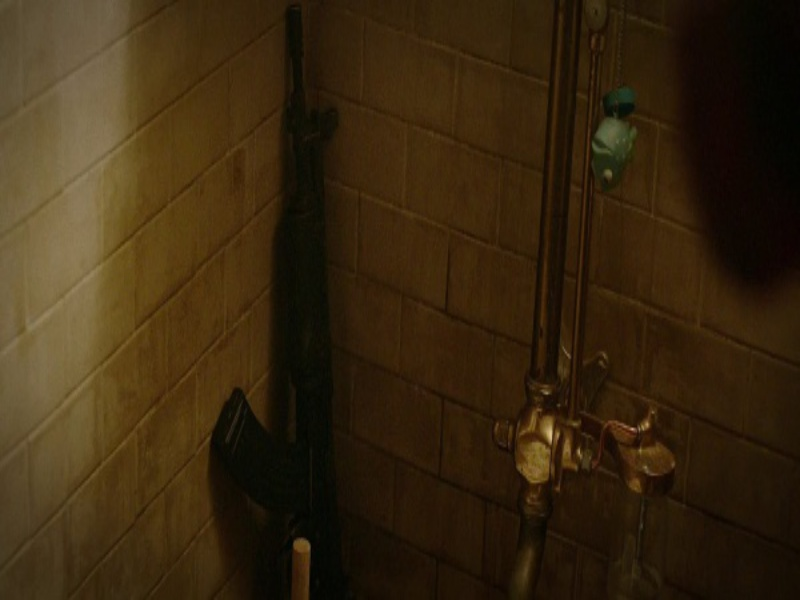weapon: (213, 5, 355, 590)
